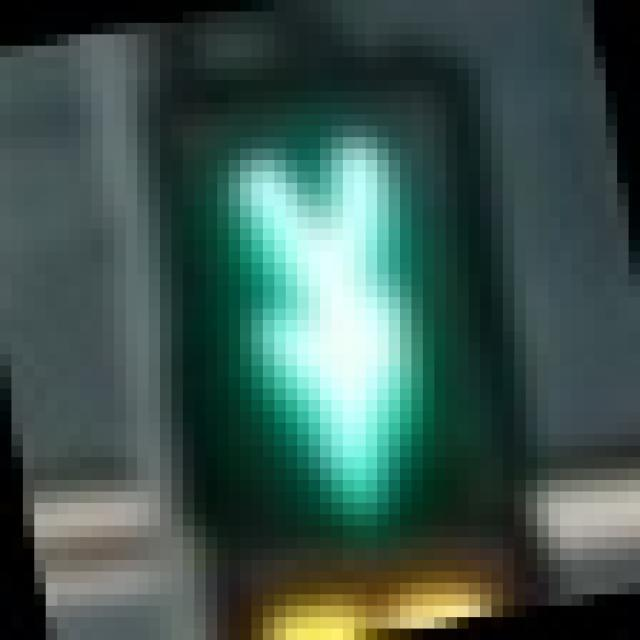geen-crossing: (114, 57, 492, 537)
